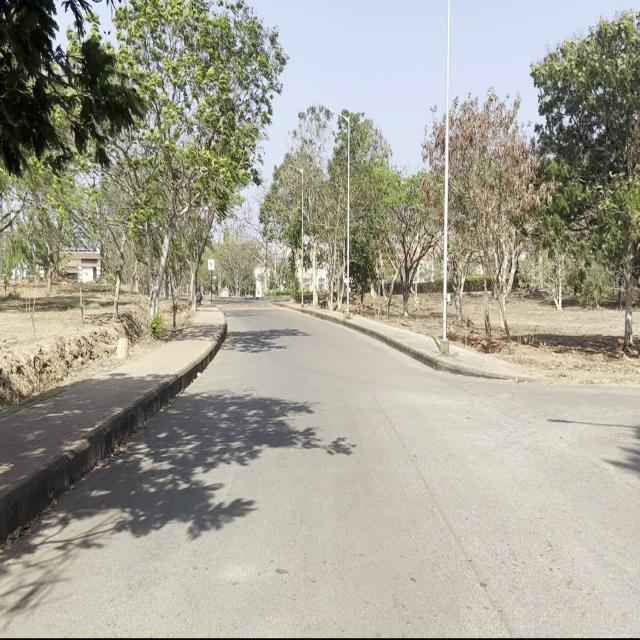Road: (3, 300, 637, 633)
